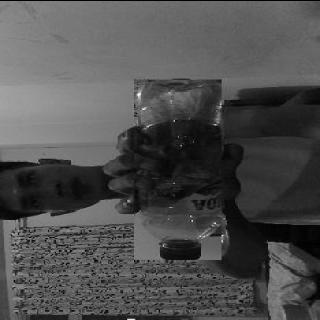plastic_bottles: (134, 78, 223, 260)
